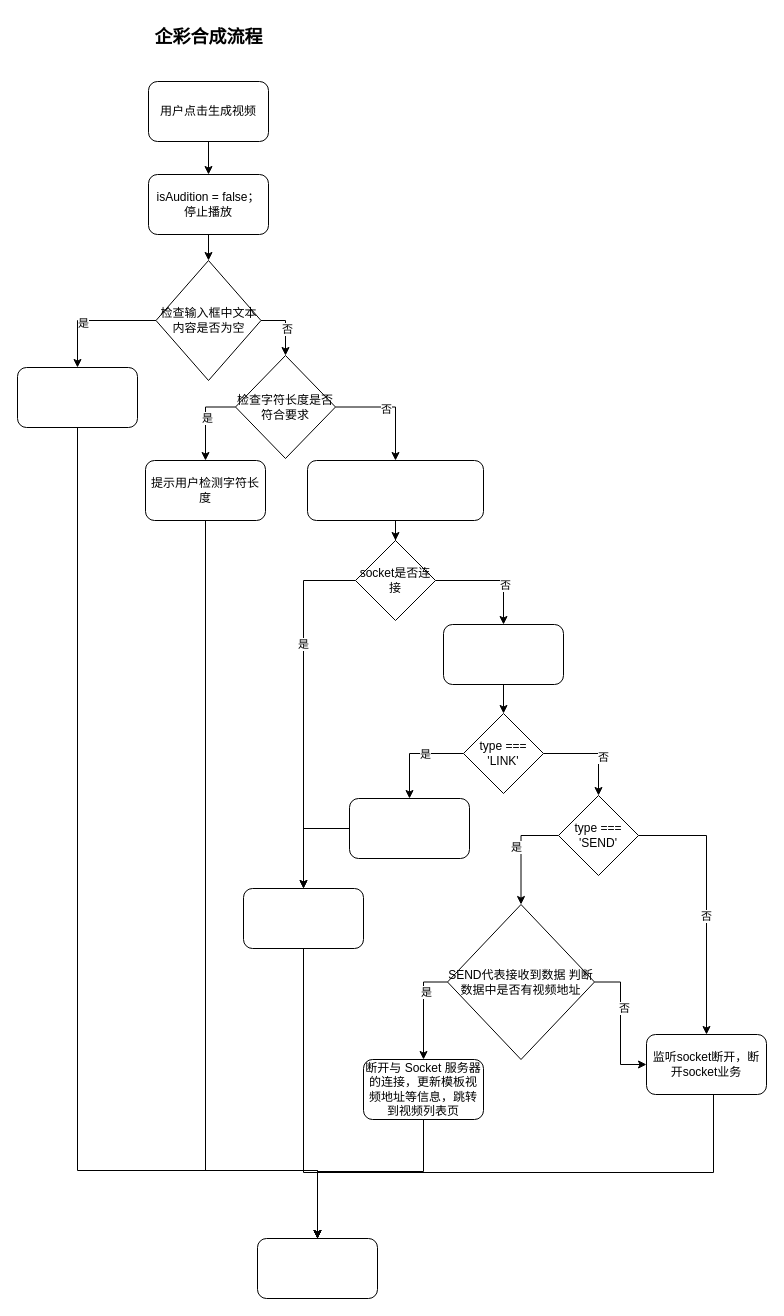
Image size: 784x1316. Some labels were removed from this diagram. Each missing label, with the centre of its shape:
LINK代表连接成功 可以进行视频生成 sockitStatus = true;: (x=409, y=828)
showCreateVideoModal = true; 展示生成视频模态框: (x=395, y=490)
socket初始化，监听消息通知: (x=503, y=654)
提示用户输入内容: (x=77, y=397)
生成视频createVideo(): (x=303, y=918)
结束: (x=317, y=1268)
